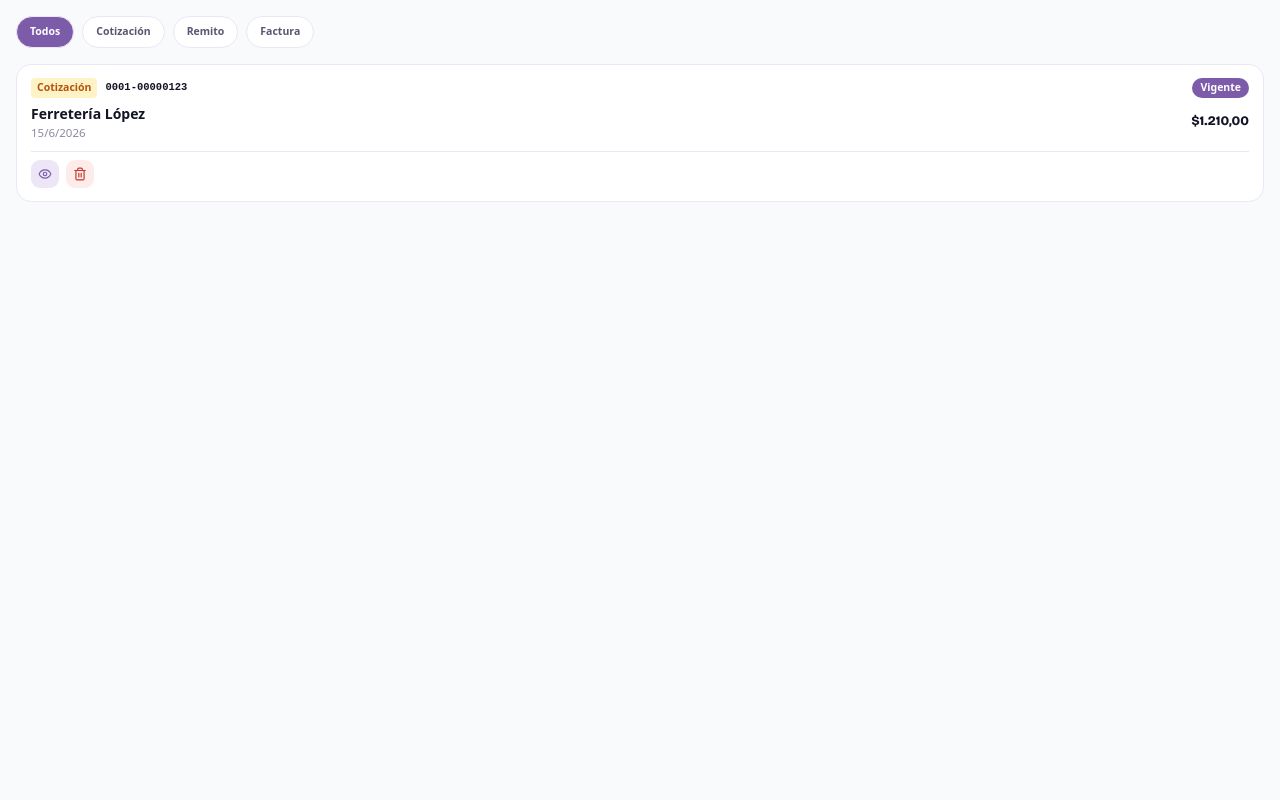
Test: MobileComprobantes — Eliminar action › opens the confirm modal with the Eliminar button disabled until a reason is typed
Expected: the element with test id "comprobante-card" is shown, [16,64,1264,202]
Click the button named "Eliminar comprobante 0001-00000123" at (80, 174), box [66,160,94,188]
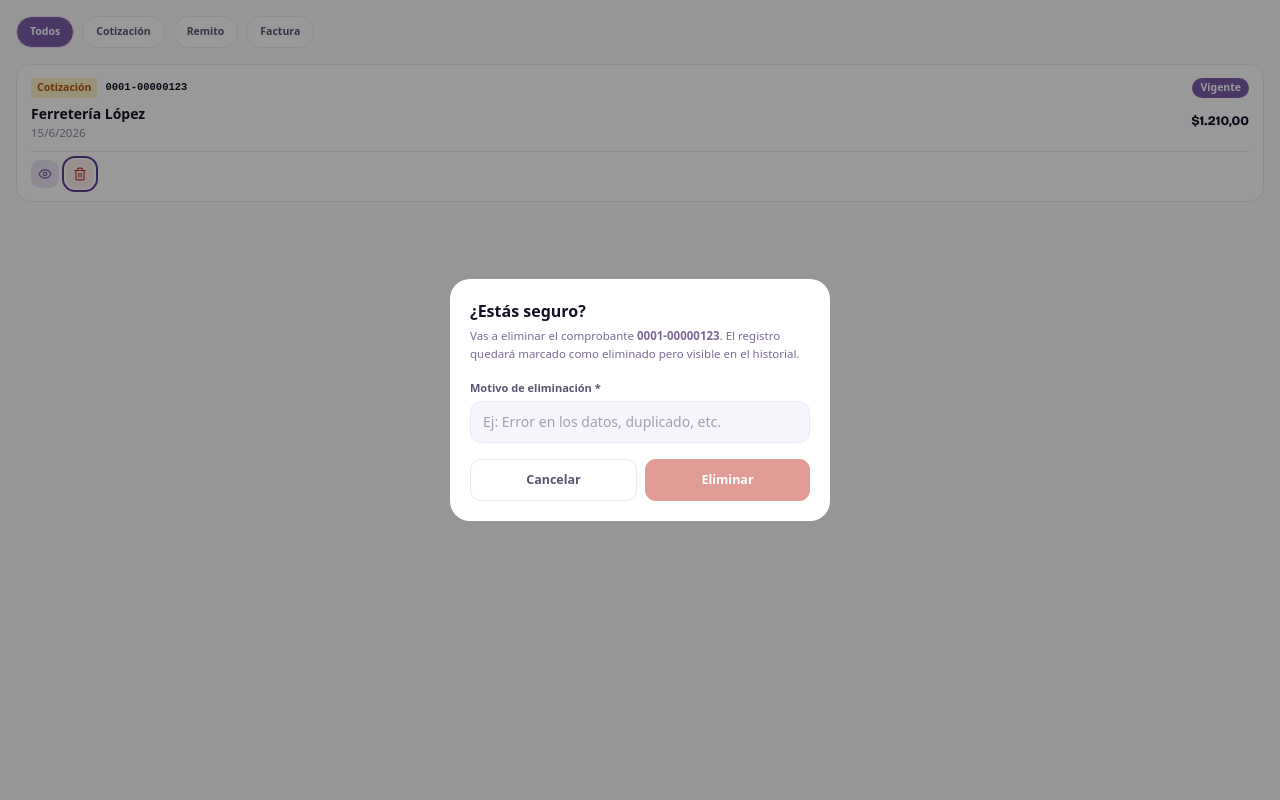
Expected: the dialog named "eliminar comprobante" is shown
Expected: the button "Eliminar" is disabled, [645,459,810,501]
Type "Duplicado" into the field labelled "Motivo de eliminación *" at (640, 422), box [470,401,810,443]
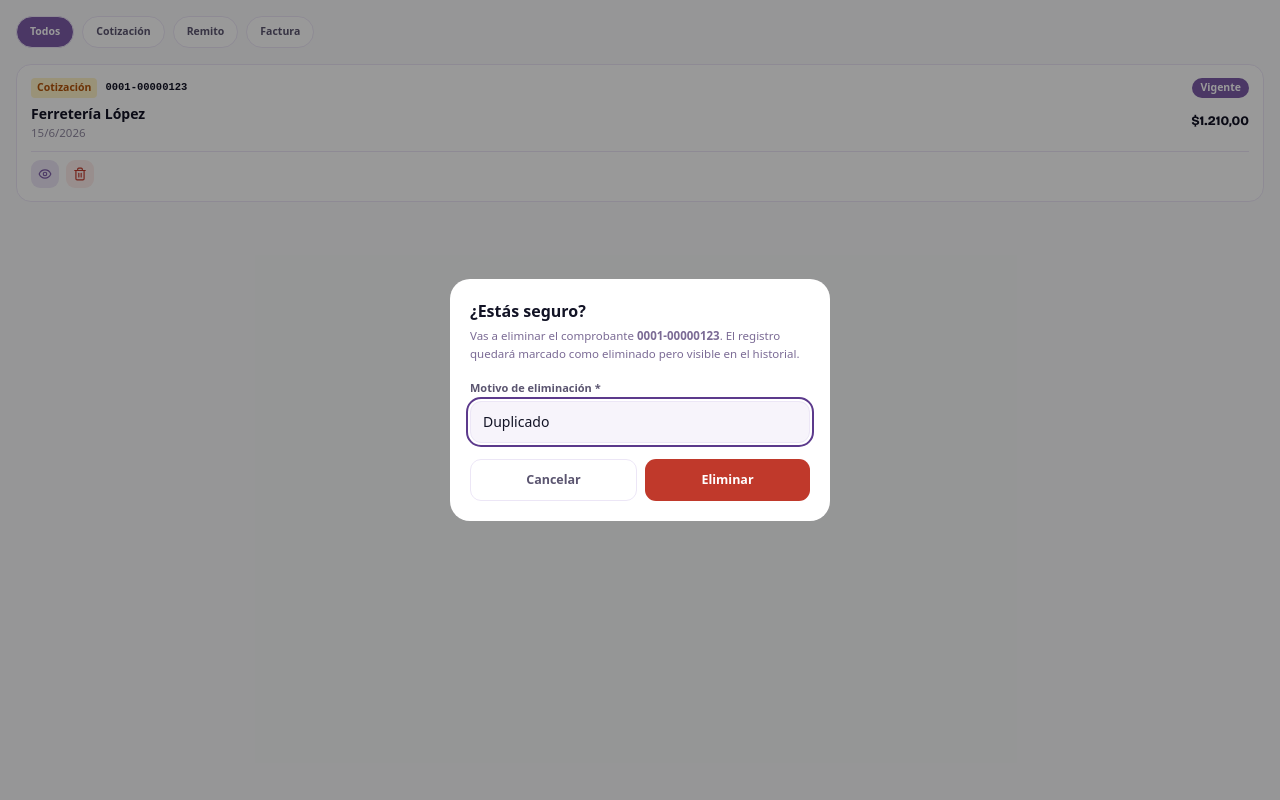
Expected: the button "Eliminar" is enabled, [645,459,810,501]
